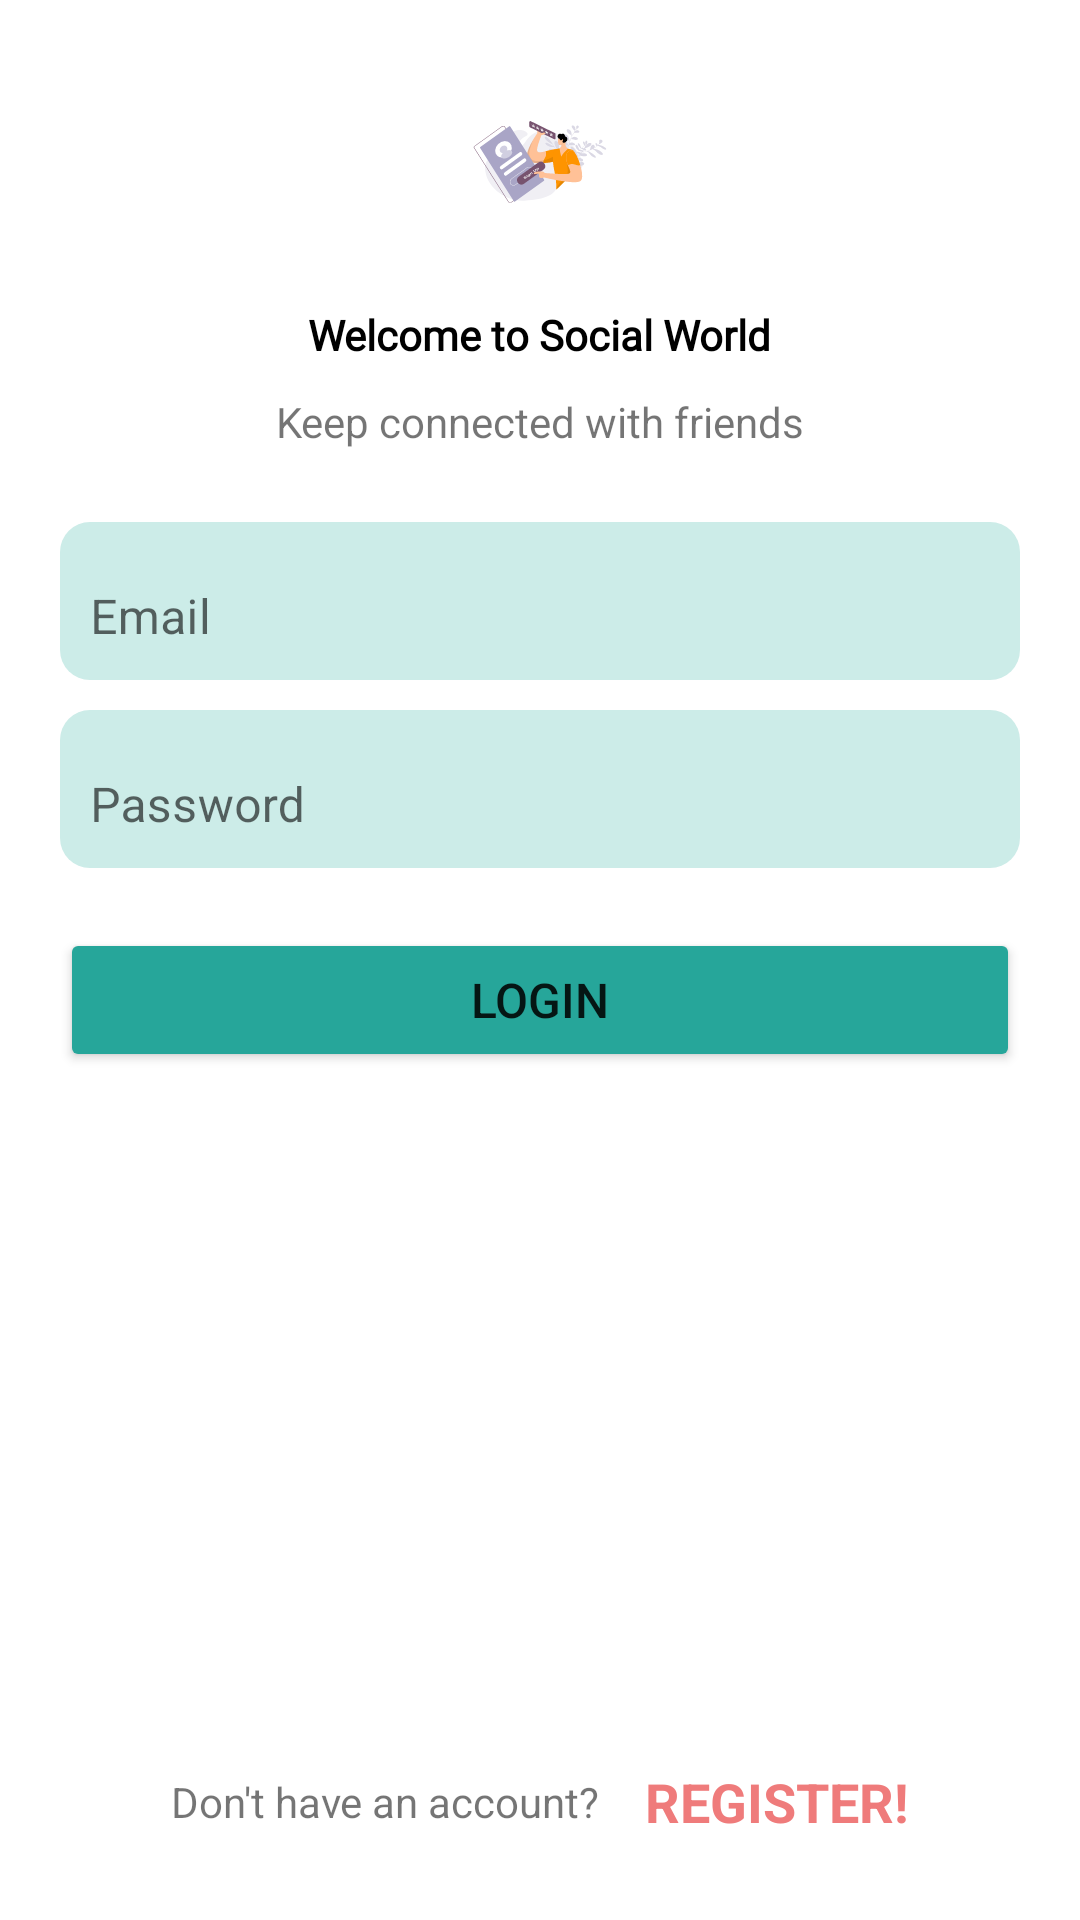

Point at icon controls on the screen. Image size 1080x1920, points as [x,y].
sign up form: [539,162]
